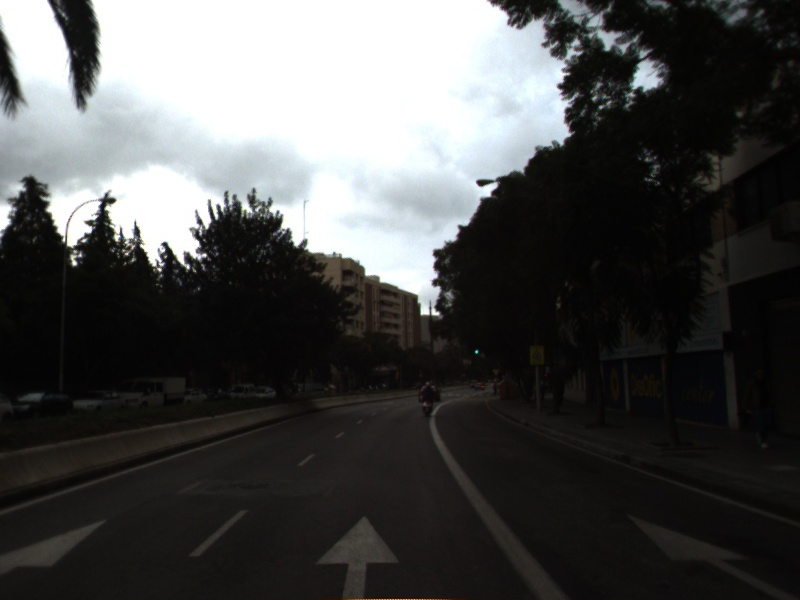STRAIGHT: (624, 511, 797, 600), (311, 511, 407, 600)
